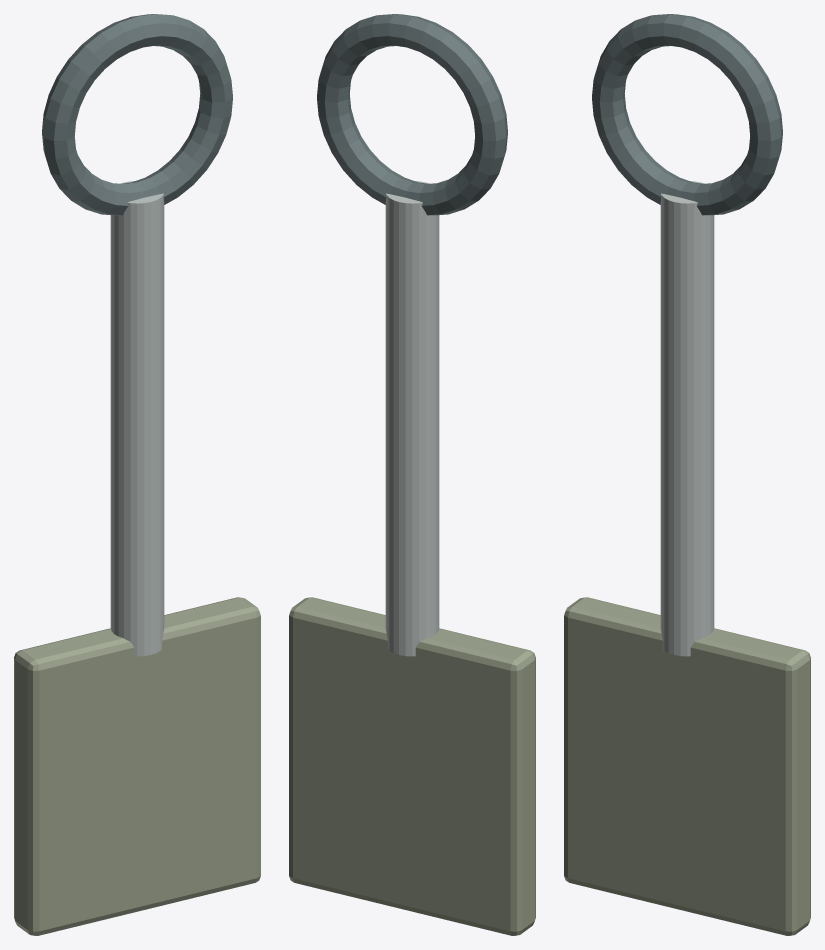
3 renders of one model, left to right at view 1: azimuth 30°, elevation 25°; view 2: azimuth 150°, elevation 25°; view 3: azimuth 330°, elevation 25°, orthographic.
Visible parts, largest first — view 1: spade blade, shaft, D grip; view 2: spade blade, shaft, D grip; view 3: spade blade, shaft, D grip.
Boxes of the visible parts, x1,y1,x2,y2 form: spade blade: [14, 597, 260, 935]; shaft: [110, 181, 164, 656]; D grip: [42, 14, 232, 215]; spade blade: [289, 597, 535, 935]; shaft: [385, 181, 439, 656]; D grip: [317, 14, 507, 215]; spade blade: [564, 597, 810, 935]; shaft: [660, 181, 714, 656]; D grip: [592, 14, 782, 215].
Bounding box in the file's own units: 0.22 × 0.804 × 0.044.
